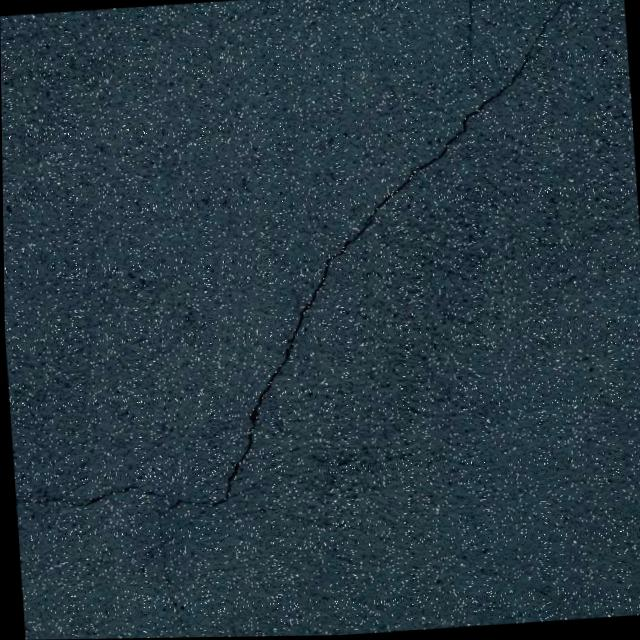Crack: (22, 0, 597, 535)
